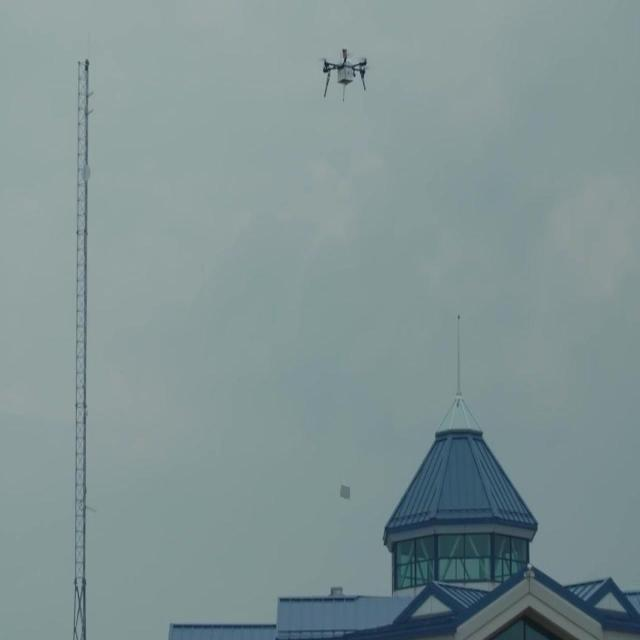drone: (322, 46, 368, 103)
